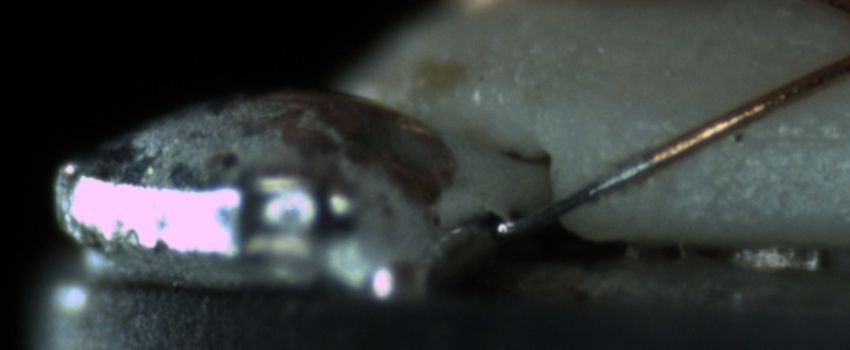DL: (691, 107, 848, 169)
TS: (499, 158, 655, 234)
TTCW: (488, 134, 669, 239)
